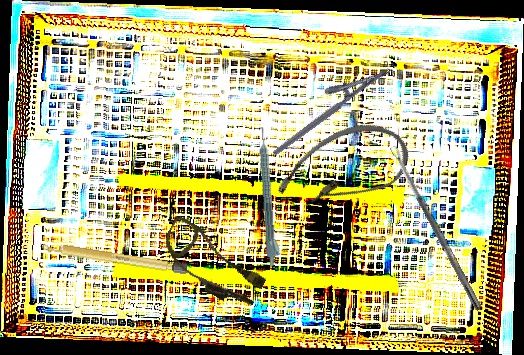Cannula: (267, 105, 420, 236), (151, 214, 274, 315)
Handpiece: (257, 126, 283, 267)
Needle Holder: (261, 51, 392, 157)
Scalpel Handle: (41, 240, 188, 275)
Surgical Spoon: (389, 144, 484, 312)
